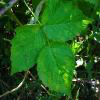Raspberry leaf: (41, 0, 96, 43), (37, 41, 73, 100), (10, 23, 42, 77)
